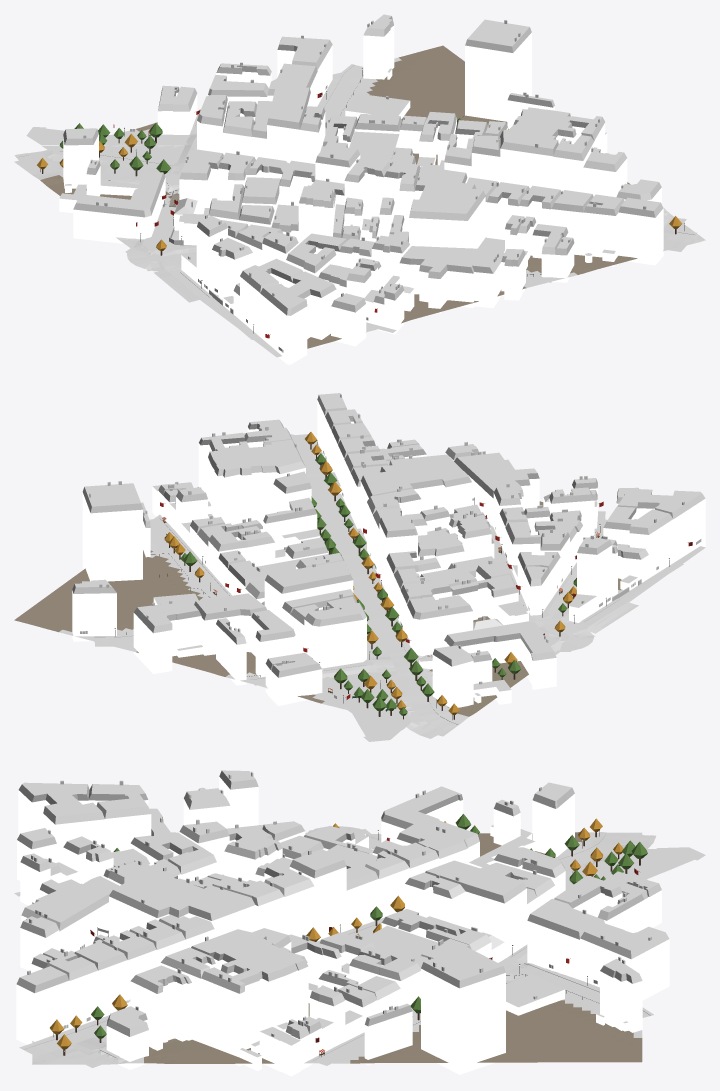
Rendered from zone_K5.glb.
3 renders of one model, top to bottom at view 1: azimuth 30°, elevation 25°; view 2: azimuth 150°, elevation 25°; view 3: azimuth 270°, elevation 25°, orthographic. The views are drawn at different scales.
Visible parts, largest first — view 1: zone_K5_batiments, zone_K5_sol_NOCOL, zone_K5_terrain, zone_K5_decor_NOCOL; view 2: zone_K5_batiments, zone_K5_sol_NOCOL, zone_K5_terrain, zone_K5_decor_NOCOL, zone_K5_commune_NOCOL; view 3: zone_K5_batiments, zone_K5_terrain, zone_K5_sol_NOCOL, zone_K5_decor_NOCOL.
Boxes of the visible parts, left/top/right/bottom form: zone_K5_batiments: left=59, top=14, right=663, bottom=364; zone_K5_sol_NOCOL: left=14, top=64, right=696, bottom=339; zone_K5_terrain: left=14, top=45, right=705, bottom=357; zone_K5_decor_NOCOL: left=37, top=68, right=684, bottom=333; zone_K5_batiments: left=72, top=393, right=705, bottom=707; zone_K5_sol_NOCOL: left=94, top=434, right=683, bottom=741; zone_K5_terrain: left=14, top=434, right=705, bottom=736; zone_K5_decor_NOCOL: left=114, top=432, right=669, bottom=719; zone_K5_commune_NOCOL: left=80, top=451, right=701, bottom=699; zone_K5_batiments: left=16, top=770, right=669, bottom=1076; zone_K5_terrain: left=32, top=832, right=642, bottom=1064; zone_K5_sol_NOCOL: left=14, top=826, right=705, bottom=1067; zone_K5_decor_NOCOL: left=50, top=814, right=647, bottom=1055.
Bounding box in the file's own units: 219 × 43.39 × 242.
